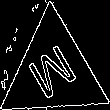M_SE: (24, 38, 83, 105)
